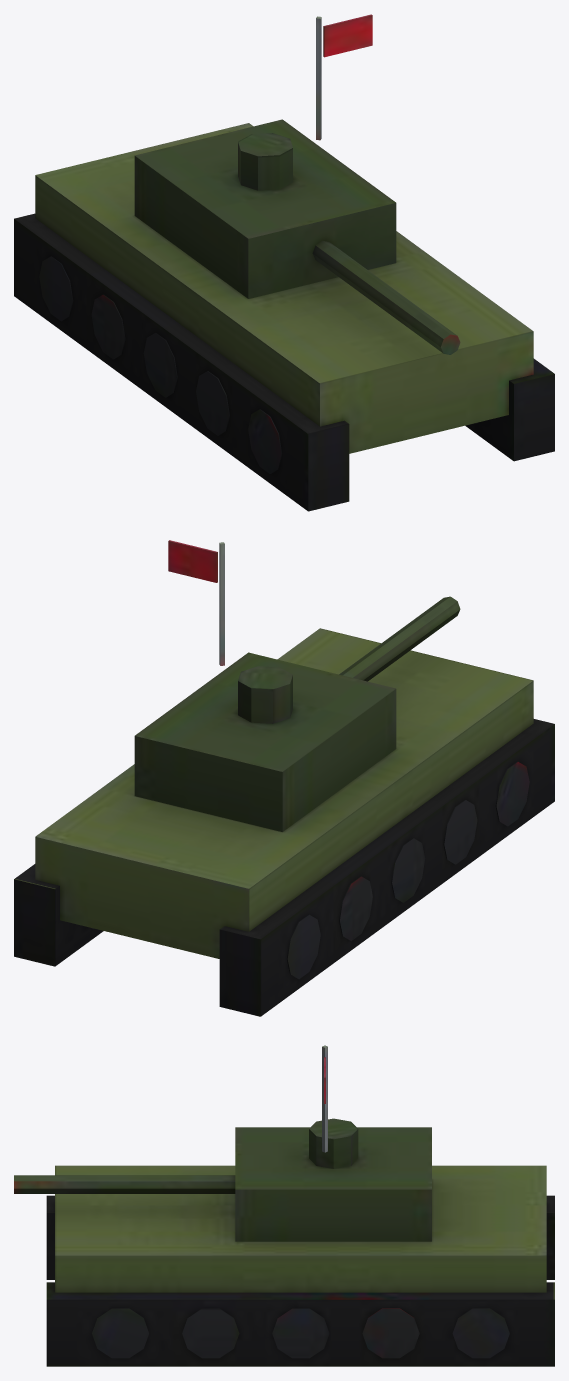
The model's file is tanque.glb.
The picture shows the model from 3 angles, top to bottom: view 1: azimuth 30°, elevation 25°; view 2: azimuth 150°, elevation 25°; view 3: azimuth 270°, elevation 25°; orthographic projection. The views are drawn at different scales.
Visible parts, largest first — view 1: tanque; view 2: tanque; view 3: tanque.
Part boxes in pixels (x1=…): tanque: x1=14, y1=14, x2=554, y2=511; tanque: x1=14, y1=540, x2=554, y2=1016; tanque: x1=14, y1=1045, x2=554, y2=1366.
Size of the model in its own units: 2.57 by 3.3 by 5.61.
Materials: 1 (1 with a texture image).
